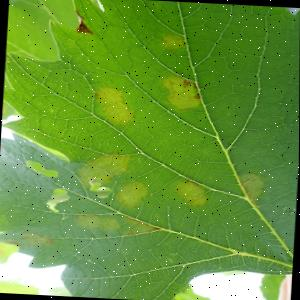Folha: (0, 0, 300, 300)
Fungo: (72, 150, 135, 192), (91, 84, 137, 126), (158, 72, 204, 111), (112, 179, 151, 209), (236, 171, 268, 206), (173, 179, 210, 206), (73, 212, 122, 231), (14, 230, 53, 252), (100, 102, 135, 126), (93, 86, 125, 106), (159, 33, 185, 50), (74, 18, 93, 34), (182, 79, 190, 87)
